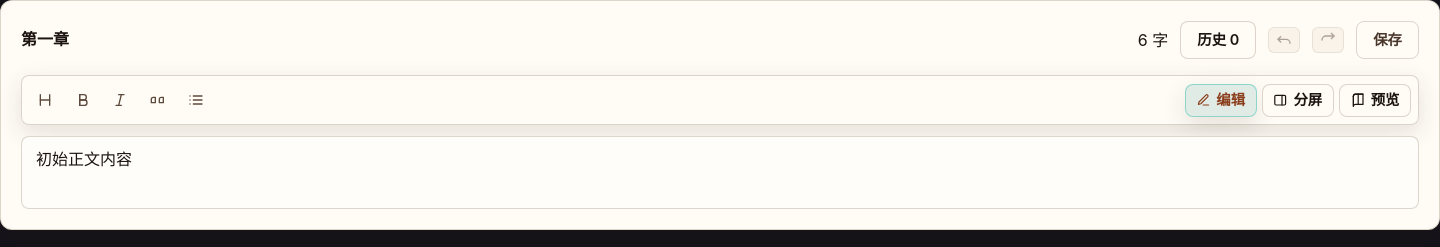
Test: ChapterEditor › waits for an in-flight save and then persists edits made during it
This screenshot has width=1440, height=247.
Replace the text in the text box named "章节正文" with "第一版". click: point(720, 172)
box: left=21, top=136, right=1419, bottom=209
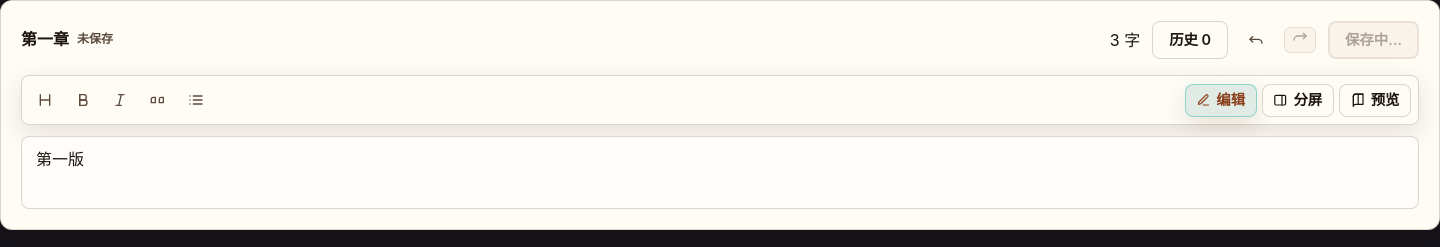
Replace the text in the text box named "章节正文" with "保存期间写下的最新版". click: point(720, 172)
box: left=21, top=136, right=1419, bottom=209
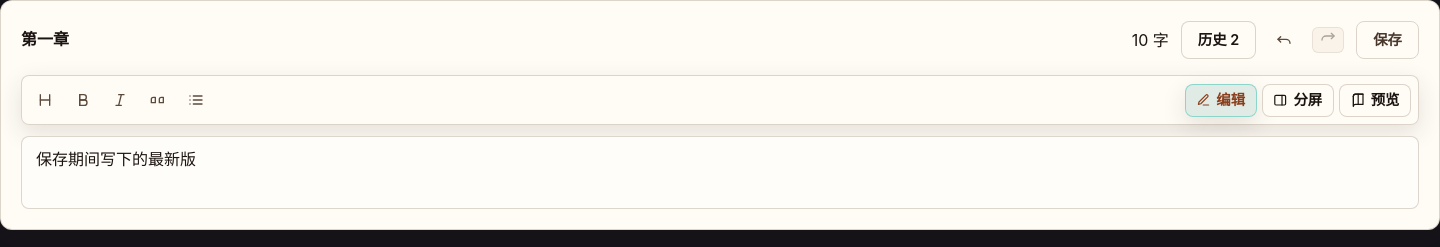
Result: the text "未保存" is gone
